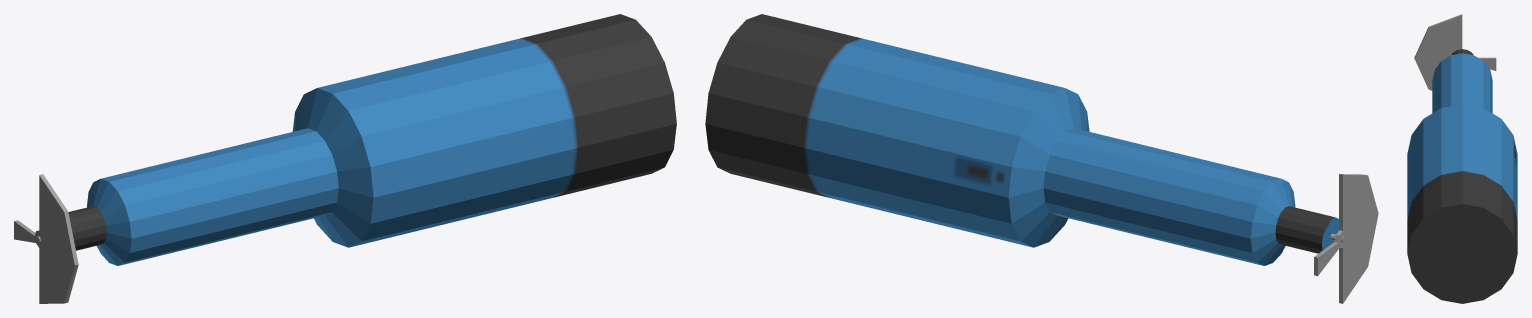
The model's file is TCA_AutopsySaw.fbx.
The picture shows the model from 3 angles, left to right: view 1: azimuth 30°, elevation 25°; view 2: azimuth 150°, elevation 25°; view 3: azimuth 270°, elevation 25°; orthographic projection. The views are drawn at different scales.
Visible parts, largest first — view 1: AutopsySaw; view 2: AutopsySaw; view 3: AutopsySaw.
Boxes of the visible parts, bbox=[...] form: AutopsySaw: bbox=[14, 14, 676, 303]; AutopsySaw: bbox=[705, 14, 1378, 303]; AutopsySaw: bbox=[1407, 14, 1517, 303].
Bounding box in the file's own units: 0.5448 × 0.129 × 0.129.
